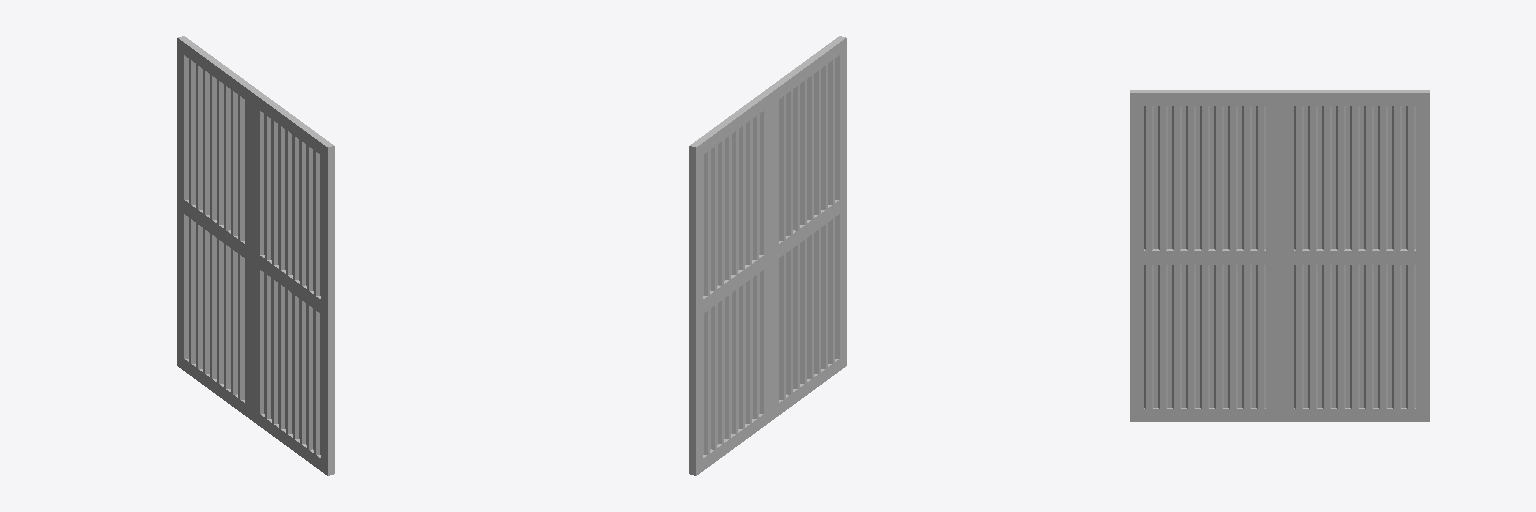
File: closed-door.obj
3 renders of one model, left to right at view 1: azimuth 30°, elevation 25°; view 2: azimuth 150°, elevation 25°; view 3: azimuth 270°, elevation 25°, orthographic.
Parts seen in each view (by area): view 1: Mesh6 Group8 Group5 Model, Mesh2 Group3 Group1 Model, Mesh1 Group2 Group1 Model, Mesh5 Group7 Group5 Model, Mesh4 Group6 Group5 Model, Mesh3 Group4 Group1 Model; view 2: Mesh3 Group4 Group1 Model, Mesh5 Group7 Group5 Model, Mesh4 Group6 Group5 Model, Mesh2 Group3 Group1 Model, Mesh1 Group2 Group1 Model, Mesh6 Group8 Group5 Model; view 3: Mesh2 Group3 Group1 Model, Mesh5 Group7 Group5 Model, Mesh1 Group2 Group1 Model, Mesh4 Group6 Group5 Model, Mesh3 Group4 Group1 Model, Mesh6 Group8 Group5 Model.
Boxes of the visible parts, <box> form: Mesh6 Group8 Group5 Model: <box>252,91,334,475</box>; Mesh2 Group3 Group1 Model: <box>184,55,245,244</box>; Mesh1 Group2 Group1 Model: <box>184,214,245,402</box>; Mesh5 Group7 Group5 Model: <box>259,110,320,295</box>; Mesh4 Group6 Group5 Model: <box>259,269,320,454</box>; Mesh3 Group4 Group1 Model: <box>177,36,258,419</box>; Mesh3 Group4 Group1 Model: <box>689,91,771,475</box>; Mesh5 Group7 Group5 Model: <box>778,55,839,244</box>; Mesh4 Group6 Group5 Model: <box>778,214,839,402</box>; Mesh2 Group3 Group1 Model: <box>703,110,764,295</box>; Mesh1 Group2 Group1 Model: <box>703,269,764,454</box>; Mesh6 Group8 Group5 Model: <box>765,36,846,419</box>; Mesh2 Group3 Group1 Model: <box>1294,106,1415,250</box>; Mesh5 Group7 Group5 Model: <box>1144,106,1265,250</box>; Mesh1 Group2 Group1 Model: <box>1294,265,1415,408</box>; Mesh4 Group6 Group5 Model: <box>1144,265,1265,408</box>; Mesh3 Group4 Group1 Model: <box>1280,90,1429,421</box>; Mesh6 Group8 Group5 Model: <box>1130,90,1279,421</box>.
Bounding box in the file's own units: 0.041 × 1.83 × 1.52.